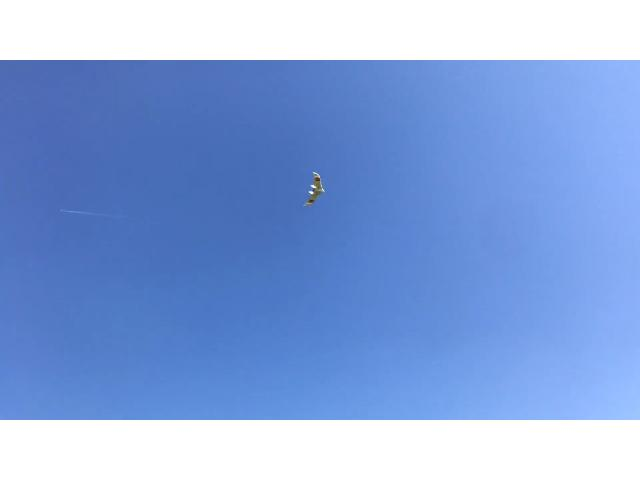Anti-Drone: (285, 169, 339, 212)
